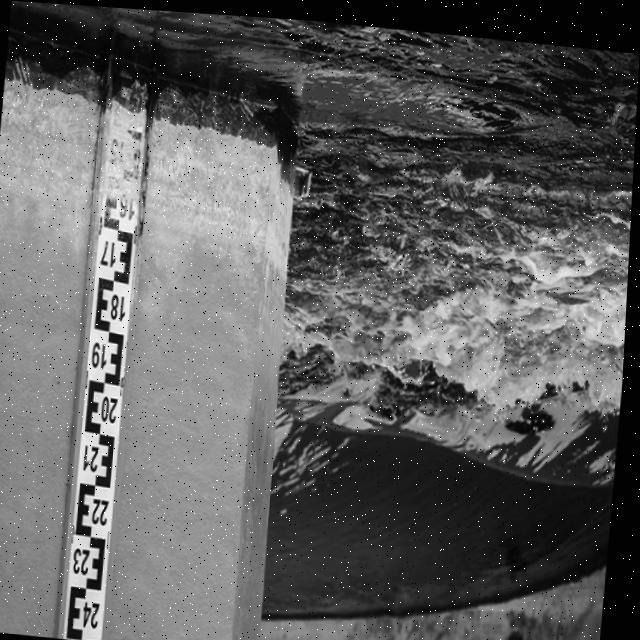water-meter: (49, 105, 158, 640)
